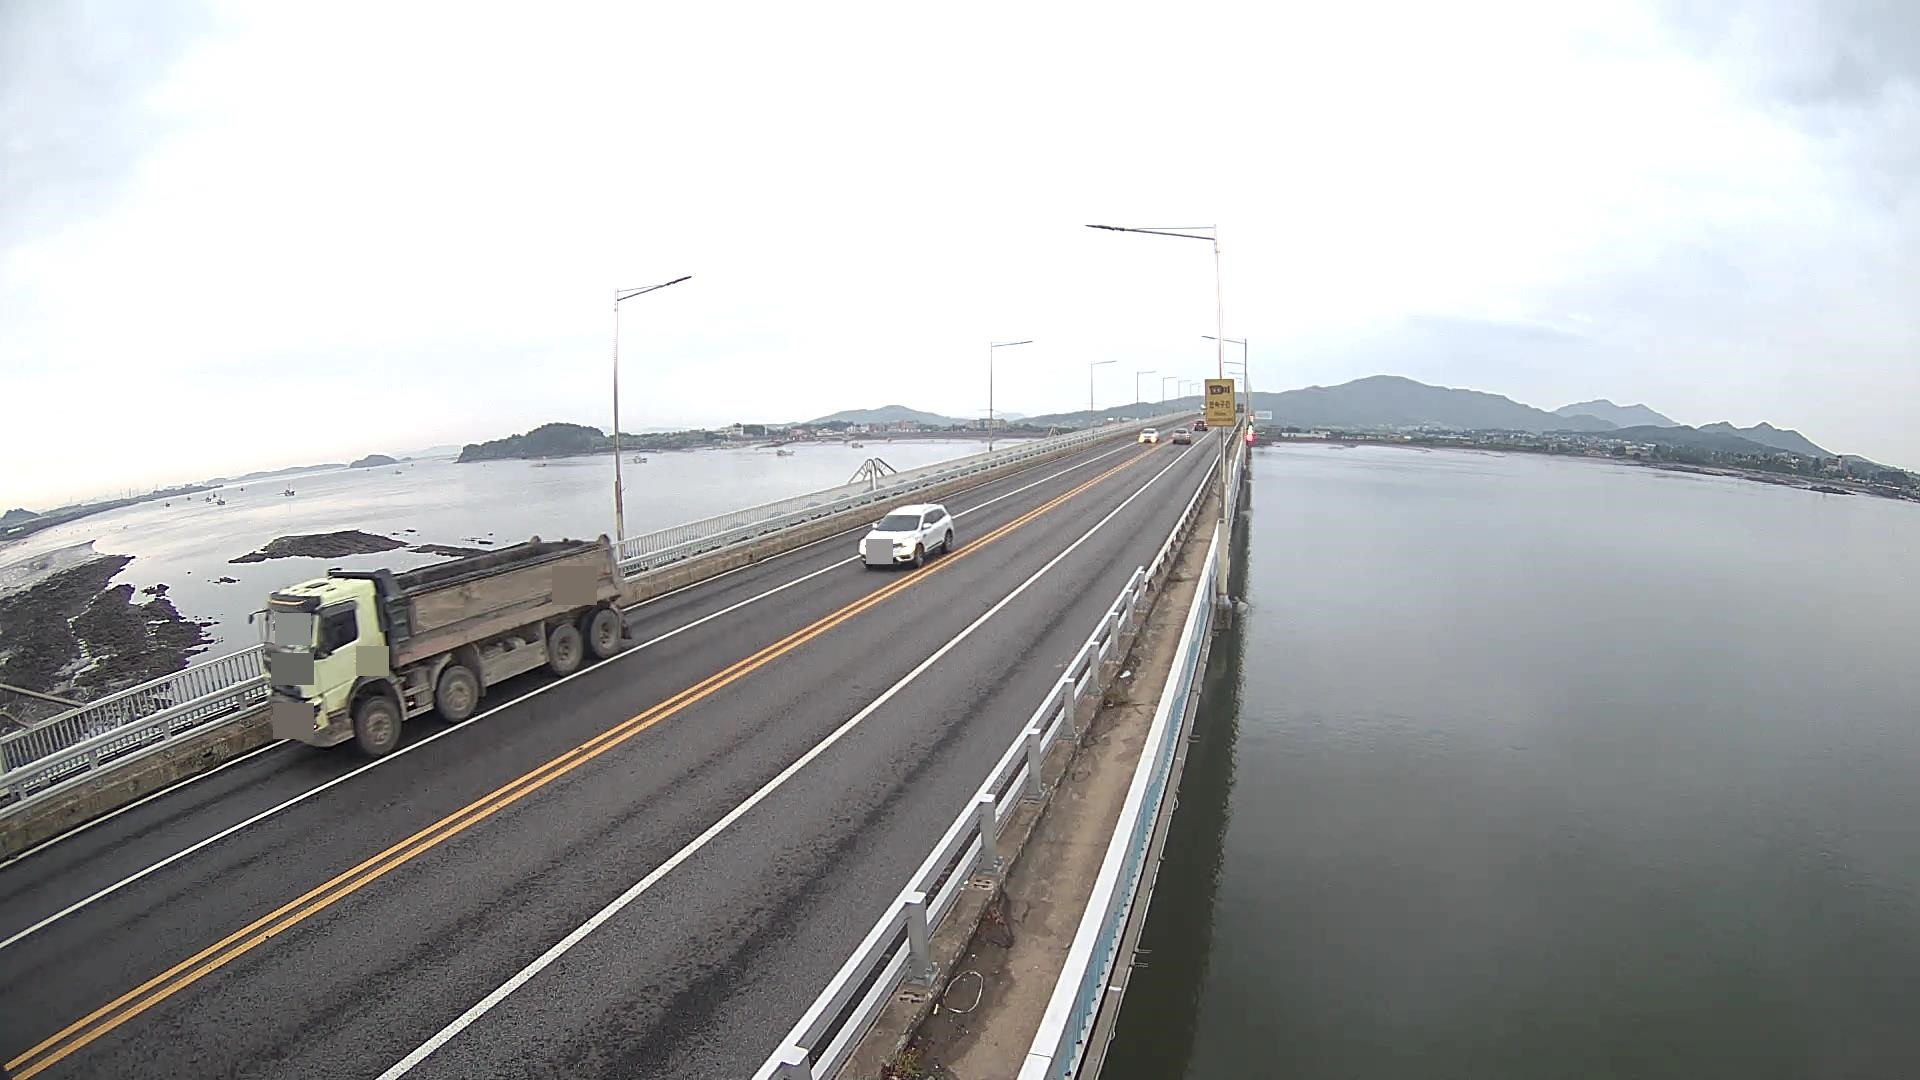정상차량: (248, 533, 633, 758)
